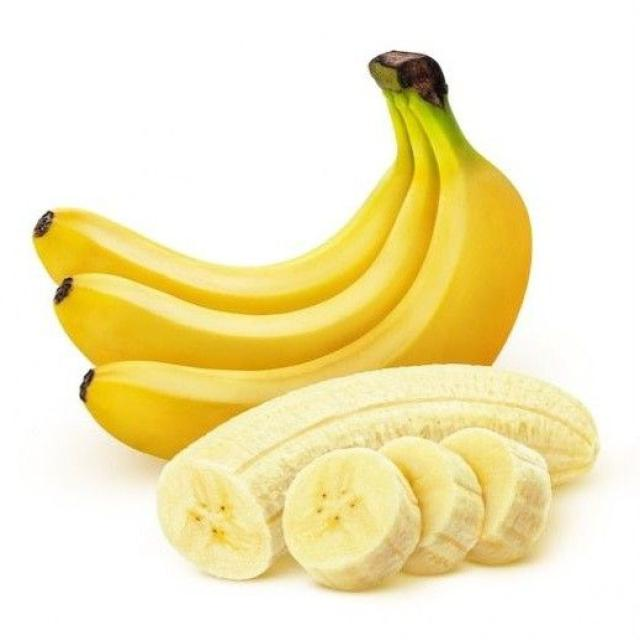banana: (86, 54, 530, 456), (56, 95, 438, 369), (158, 365, 598, 577), (34, 92, 413, 313), (283, 448, 420, 590), (442, 428, 552, 564), (380, 437, 484, 575)
